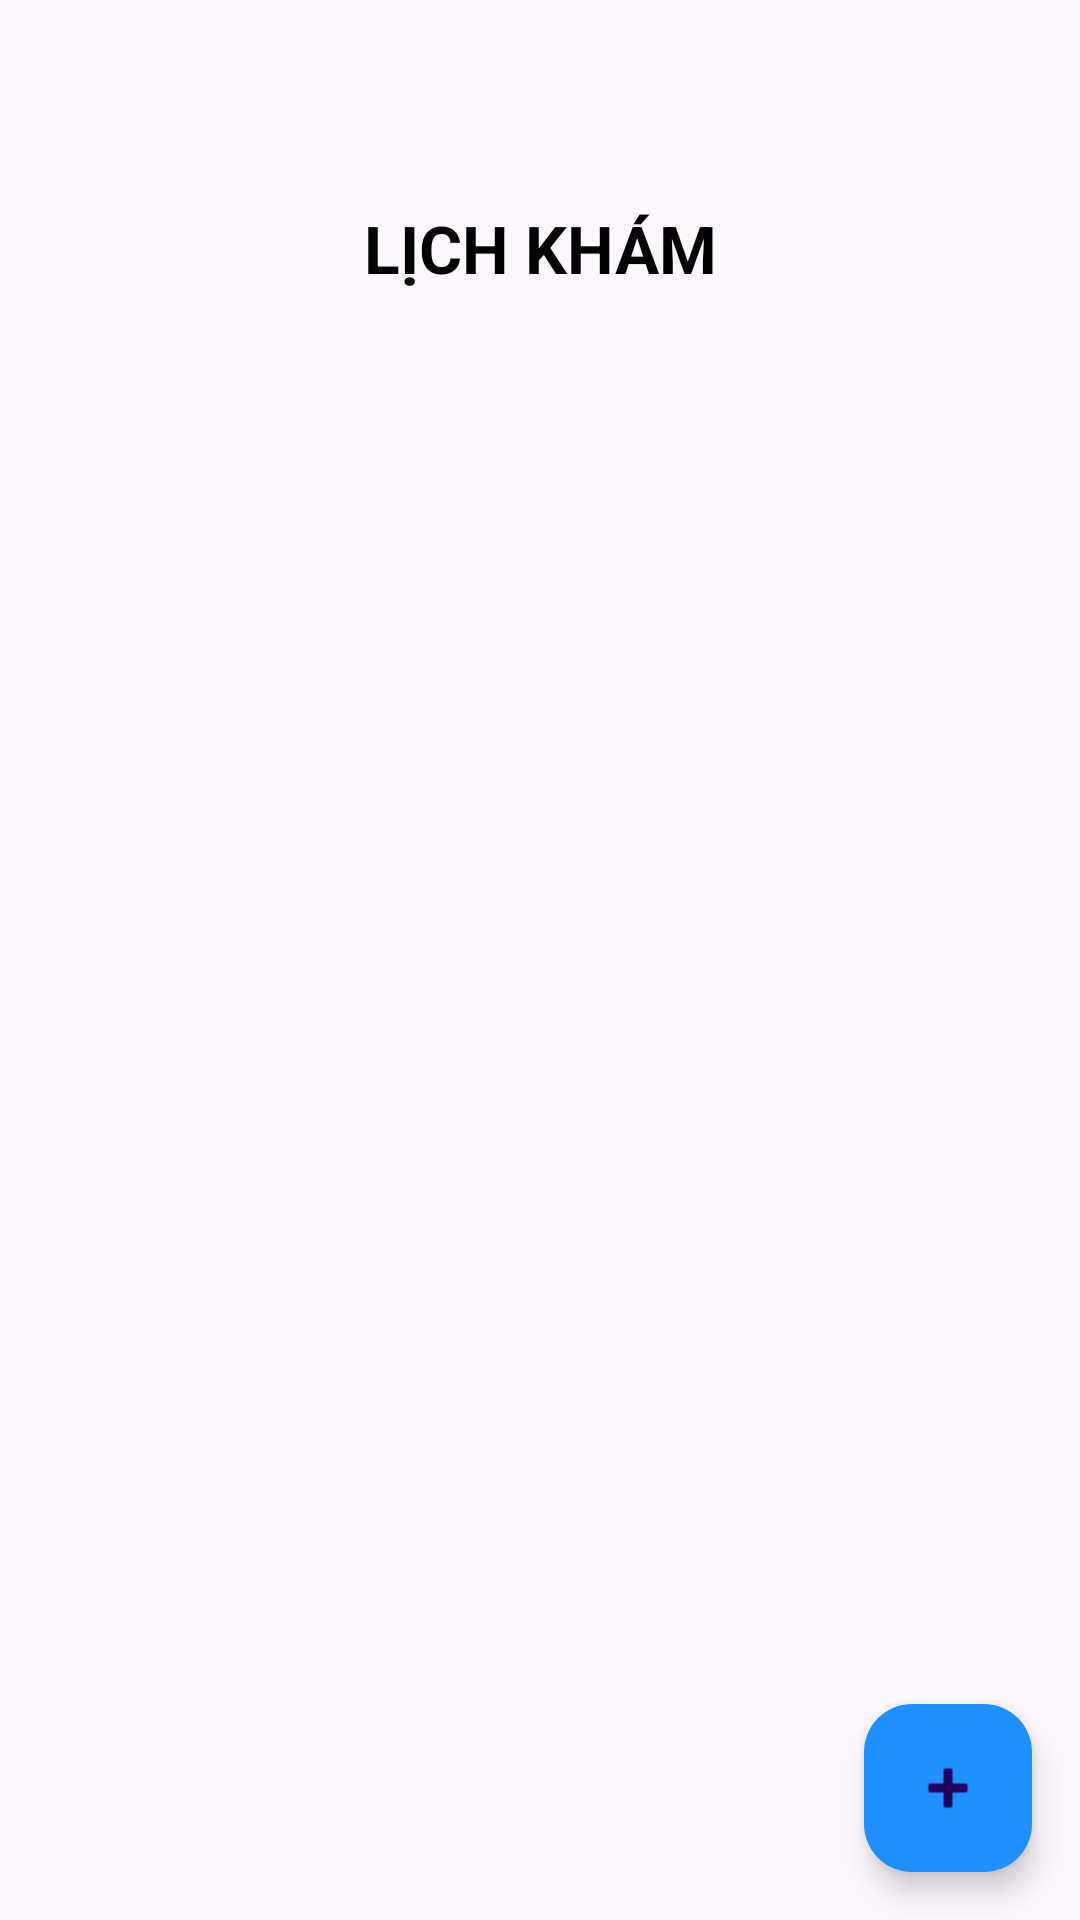

Point at icon controls on the screen. Image size 1080px x 1920px, points as [x,y].
Thêm hồ sơ: [948,1788]
